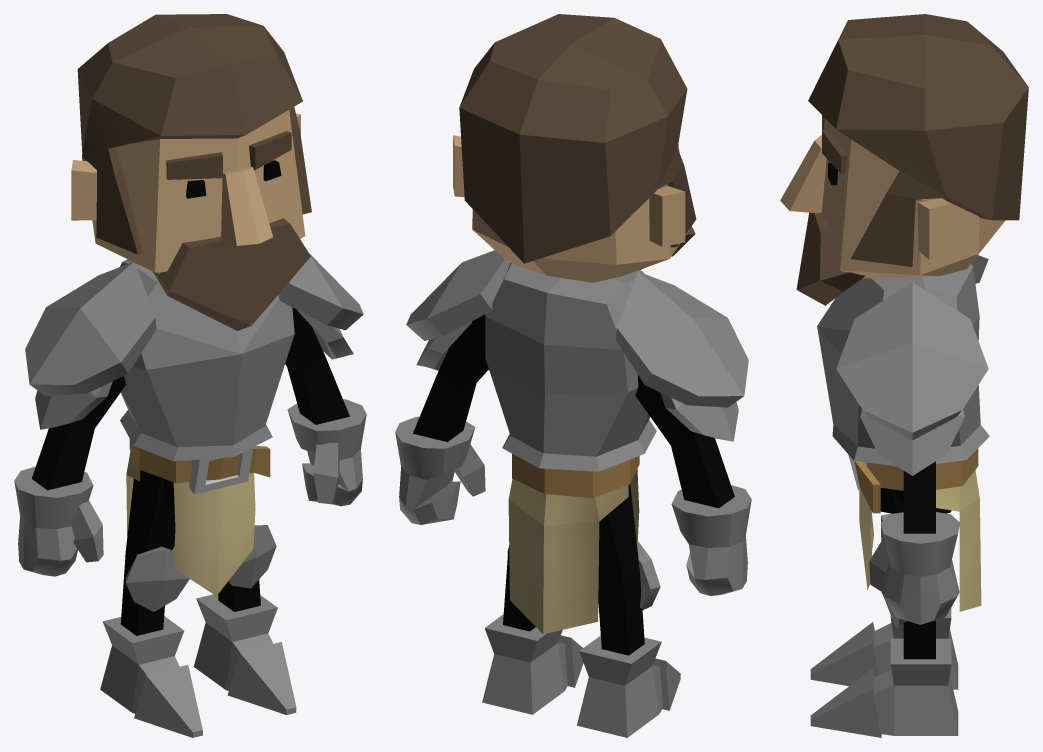
File: soldat.glb
3 renders of one model, left to right at view 1: azimuth 30°, elevation 25°; view 2: azimuth 150°, elevation 25°; view 3: azimuth 270°, elevation 25°, orthographic.
Visible parts, largest first — view 1: Soldier_71_PG_Mat02_0, Soldier_71_Stendardi_Mat3_0; view 2: Soldier_71_PG_Mat02_0, Soldier_71_Stendardi_Mat3_0; view 3: Soldier_71_PG_Mat02_0, Soldier_71_Stendardi_Mat3_0.
Part boxes in pixels (box(x1,y1,x2,y2)): Soldier_71_PG_Mat02_0: box(14, 14, 366, 737); Soldier_71_Stendardi_Mat3_0: box(126, 451, 255, 595); Soldier_71_PG_Mat02_0: box(395, 14, 751, 737); Soldier_71_Stendardi_Mat3_0: box(508, 469, 639, 634); Soldier_71_PG_Mat02_0: box(780, 14, 1028, 737); Soldier_71_Stendardi_Mat3_0: box(859, 470, 981, 611).
Size of the model in its own units: 0.9252 by 1.69 by 0.5717.
Materials: 2 (2 with a texture image).
